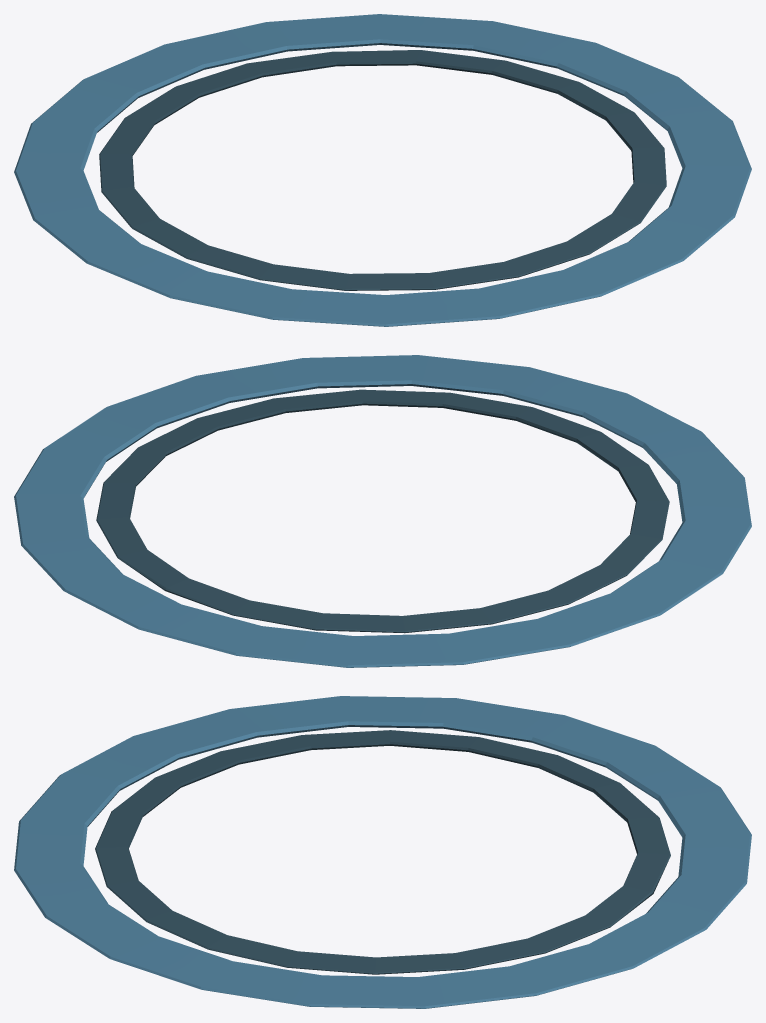
File: Blue_Planet_Rings_Lod1.fbx
3 renders of one model, top to bottom at view 1: azimuth 30°, elevation 25°; view 2: azimuth 150°, elevation 25°; view 3: azimuth 270°, elevation 25°, orthographic.
Parts seen in each view (by area): view 1: Blue_Planet_Rings_Lod1; view 2: Blue_Planet_Rings_Lod1; view 3: Blue_Planet_Rings_Lod1.
Boxes of the visible parts, x1=… form: Blue_Planet_Rings_Lod1: x1=14, y1=14, x2=751, y2=326; Blue_Planet_Rings_Lod1: x1=14, y1=355, x2=751, y2=667; Blue_Planet_Rings_Lod1: x1=14, y1=696, x2=751, y2=1008.
Bounding box in the file's own units: 35623 × 263 × 35623.
